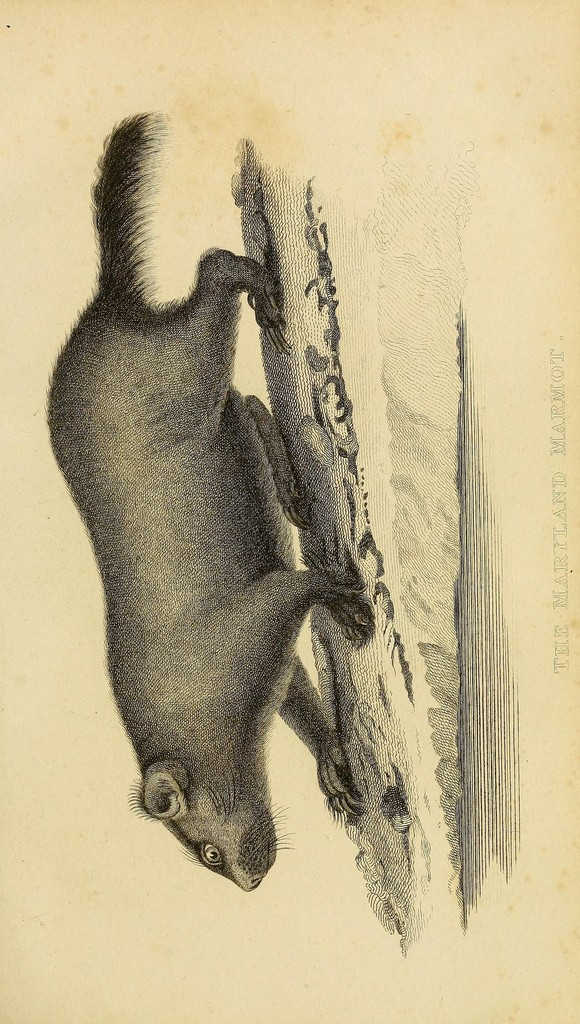Animal: (40, 103, 376, 895)
